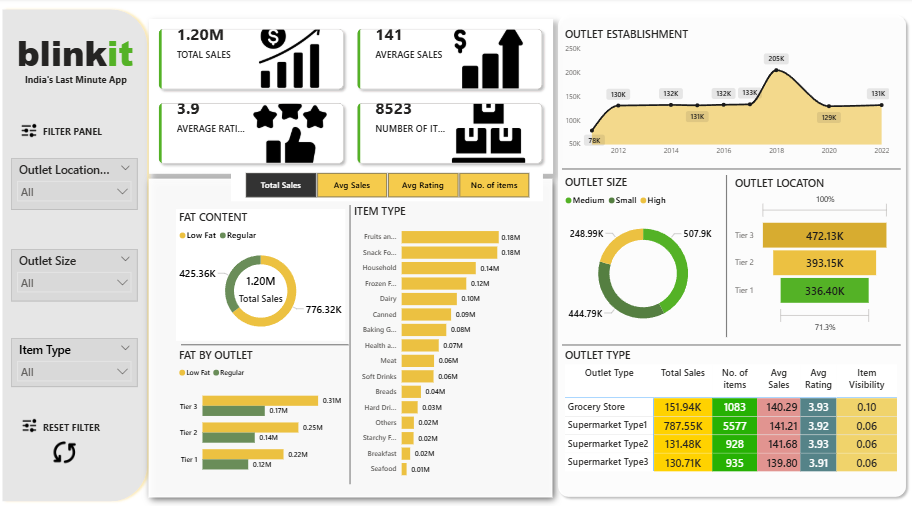

The dashboard page shown, as its layout file describes it:
{"tool":"powerbi","page":{"name":"Dashboard","canvas":[1600,900],"ordinal":0},"visuals":[{"type":"shape","box":[0,10,270,873.3],"z":0},{"type":"textbox","box":[30,48.6,232.9,95.7],"z":1000},{"type":"textbox","box":[44.3,125.7,205.7,37.1],"z":2000},{"type":"cardVisual","fields":{"Data":["BlinkIT Grocery Data.Total Sales","BlinkIT Grocery Data.Avg Sales","BlinkIT Grocery Data.Avg Rating","BlinkIT Grocery Data.Number of items"]},"box":[264.1,36.5,701.9,269.3],"z":3000},{"type":"shape","box":[246.7,297.1,734.9,587.3],"z":4000},{"type":"donutChart","title":"FAT CONTENT","fields":{"Y":["BlinkIT Grocery Data.Total Sales"],"Category":["BlinkIT Grocery Data.Item Fat Content"]},"box":[311.7,367.3,294.3,228.6],"z":5000},{"type":"slicer","fields":{"Values":["Metrics.Metrics"]},"box":[406.6,297.1,542.1,55.6],"z":6000},{"type":"card","fields":{"Values":["BlinkIT Grocery Data.Total Sales"]},"box":[406.7,456.7,103.3,95],"z":7000},{"type":"clusteredBarChart","title":"FAT BY OUTLET","fields":{"Y":["BlinkIT Grocery Data.Total Sales"],"Category":["BlinkIT Grocery Data.Outlet Location Type"],"Series":["BlinkIT Grocery Data.Item Fat Content"]},"box":[311.7,606.7,295,238.3],"z":8000},{"type":"shape","box":[320,580,291.4,44.3],"z":9000},{"type":"shape","box":[595,360,38.3,485],"z":10000},{"type":"barChart","title":"ITEM TYPE","fields":{"Y":["BlinkIT Grocery Data.Total Sales"],"Category":["BlinkIT Grocery Data.Item Type"]},"box":[614.3,355.9,298.7,489],"z":11000},{"type":"shape","box":[965.6,20.1,622.1,854.2],"z":12000},{"type":"lineChart","title":"OUTLET ESTABLISHMENT","fields":{"Category":["BlinkIT Grocery Data.Outlet Establishment Year"],"Y":["BlinkIT Grocery Data.Total Sales"]},"box":[981.7,48.3,573.3,235],"z":13000},{"type":"shape","box":[981.7,279,588.1,34.7],"z":14000},{"type":"donutChart","title":"OUTLET SIZE","fields":{"Y":["BlinkIT Grocery Data.Total Sales"],"Category":["BlinkIT Grocery Data.Outlet Size"]},"box":[981.7,306.1,282,289.5],"z":15000},{"type":"shape","box":[1248.3,308.3,40,281.7],"z":16000},{"type":"funnel","title":"OUTLET LOCATON","fields":{"Y":["Sum(BlinkIT Grocery Data.Sales)"],"Category":["BlinkIT Grocery Data.Outlet Location Type"]},"box":[1276.7,308.3,278.3,280],"z":17000},{"type":"shape","box":[981.7,585.1,588.1,34.7],"z":18000},{"type":"pivotTable","title":"OUTLET TYPE","fields":{"Rows":["BlinkIT Grocery Data.Outlet Type"],"Values":["BlinkIT Grocery Data.Total Sales","BlinkIT Grocery Data.No. of items","BlinkIT Grocery Data.Avg Sales","BlinkIT Grocery Data.Avg Rating","Avg(BlinkIT Grocery Data.Item Visibility)"]},"box":[981.7,606.7,588.3,238.3],"z":19000},{"type":"slicer","fields":{"Values":["BlinkIT Grocery Data.Outlet Location Type"]},"box":[23.6,278.2,220,90],"z":20000},{"type":"slicer","fields":{"Values":["BlinkIT Grocery Data.Outlet Size"]},"box":[23.6,436.4,220,90.9],"z":21000},{"type":"slicer","fields":{"Values":["BlinkIT Grocery Data.Item Type"]},"box":[23.6,590.9,220,85.5],"z":22000},{"type":"textbox","box":[74.2,215.7,123.7,37.7],"z":23000},{"type":"image","box":[36.5,206.6,37.7,46.7],"z":24000},{"type":"image","box":[89.1,760,58.2,60],"z":25000},{"type":"textbox","box":[74.5,729.1,123.6,38.2],"z":26000},{"type":"image","box":[38.2,720,36.4,47.3],"z":27000}]}

Visuals, with their boxes in screenshot pixels (x1, y1, x2, y2), scaled from the page's 1600x900 canvas onto the 912x506 screenshot:
shape: (0, 6, 154, 497)
textbox: (17, 27, 150, 81)
textbox: (25, 71, 142, 92)
cardVisual - BlinkIT Grocery Data.Total Sales x BlinkIT Grocery Data.Avg Sales: (151, 21, 551, 172)
shape: (141, 167, 560, 497)
"FAT CONTENT" donutChart: (178, 207, 345, 335)
slicer - Metrics.Metrics: (232, 167, 541, 198)
card - BlinkIT Grocery Data.Total Sales: (232, 257, 291, 310)
"FAT BY OUTLET" clusteredBarChart: (178, 341, 346, 475)
shape: (182, 326, 348, 351)
shape: (339, 202, 361, 475)
"ITEM TYPE" barChart: (350, 200, 520, 475)
shape: (550, 11, 905, 492)
"OUTLET ESTABLISHMENT" lineChart: (560, 27, 886, 159)
shape: (560, 157, 895, 176)
"OUTLET SIZE" donutChart: (560, 172, 720, 335)
shape: (712, 173, 734, 332)
"OUTLET LOCATON" funnel: (728, 173, 886, 331)
shape: (560, 329, 895, 348)
"OUTLET TYPE" pivotTable: (560, 341, 895, 475)
slicer - BlinkIT Grocery Data.Outlet Location Type: (13, 156, 139, 207)
slicer - BlinkIT Grocery Data.Outlet Size: (13, 245, 139, 296)
slicer - BlinkIT Grocery Data.Item Type: (13, 332, 139, 380)
textbox: (42, 121, 113, 142)
image: (21, 116, 42, 142)
image: (51, 427, 84, 461)
textbox: (42, 410, 113, 431)
image: (22, 405, 43, 431)
